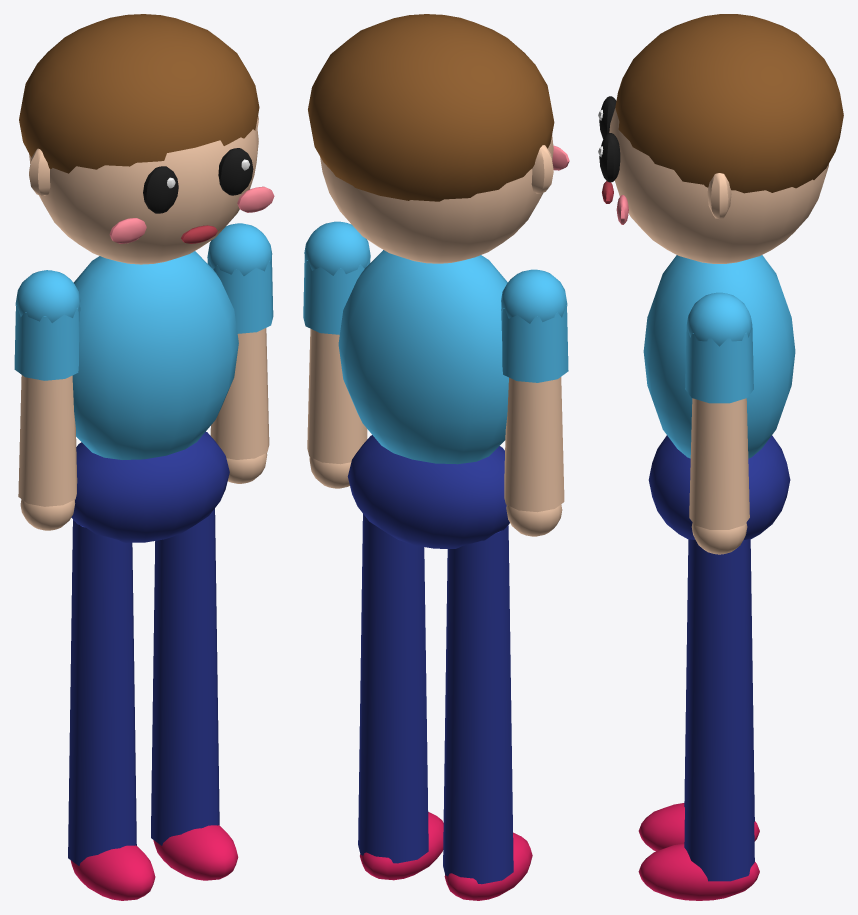
File: npc_kid.glb
The picture shows the model from 3 angles, left to right: view 1: azimuth 30°, elevation 25°; view 2: azimuth 150°, elevation 25°; view 3: azimuth 270°, elevation 25°; orthographic projection. The views are drawn at different scales.
Visible parts, largest first — view 1: Body.004, Leg_R.004, Leg_L.004, Arm_R.004, Arm_L.004; view 2: Body.004, Leg_R.004, Leg_L.004, Arm_R.004, Arm_L.004; view 3: Body.004, Leg_L.004, Arm_L.004, Leg_R.004.
Part boxes in pixels (x1,y1,x2,y2): Body.004: (19,14,274,542); Leg_R.004: (68,519,155,900); Leg_L.004: (151,508,238,880); Arm_R.004: (14,270,80,530); Arm_L.004: (207,223,273,483); Body.004: (308,14,569,548); Leg_R.004: (443,525,532,900); Leg_L.004: (358,514,443,880); Arm_R.004: (501,269,568,536); Arm_L.004: (303,221,370,488); Body.004: (598,14,843,539); Leg_L.004: (638,539,759,900); Arm_L.004: (685,292,753,554); Leg_R.004: (638,539,759,851).
Bounding box in the file's own units: 0.387 × 1.26 × 0.3298.
